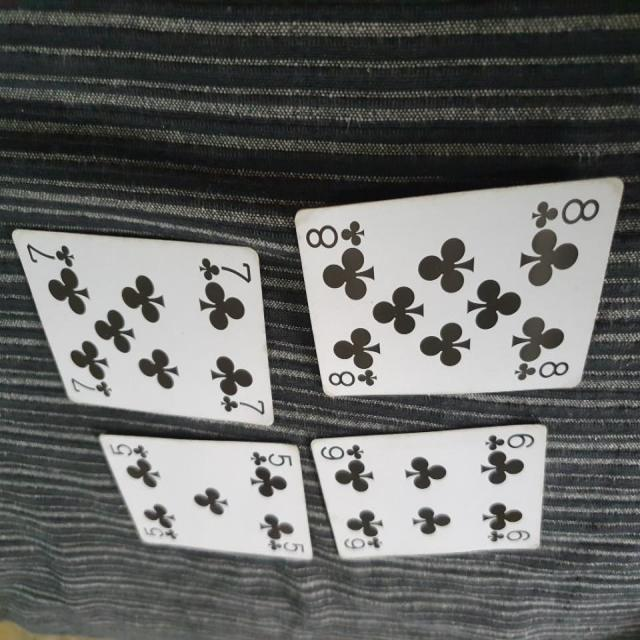5 of clubs: (96, 430, 312, 566)
6 of clubs: (308, 418, 548, 561)
7 of clubs: (9, 227, 276, 426)
8 of clubs: (292, 169, 626, 400)
